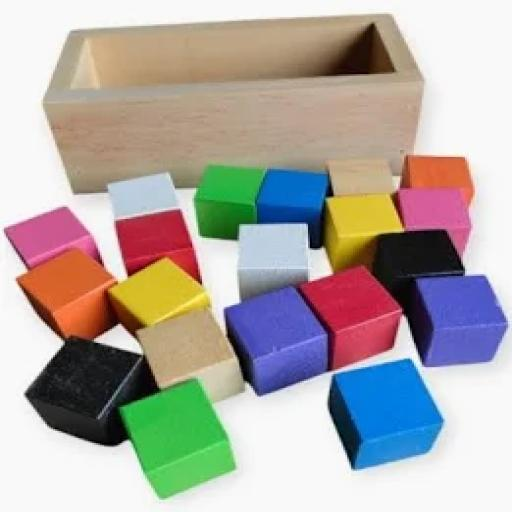mainan blok: (3, 9, 512, 499)
